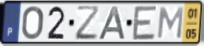2: (47, 6, 66, 41)
A: (97, 5, 127, 41)
E: (132, 4, 159, 42)
M: (156, 6, 185, 40)
O: (20, 5, 45, 41)
Z: (75, 5, 101, 42)
